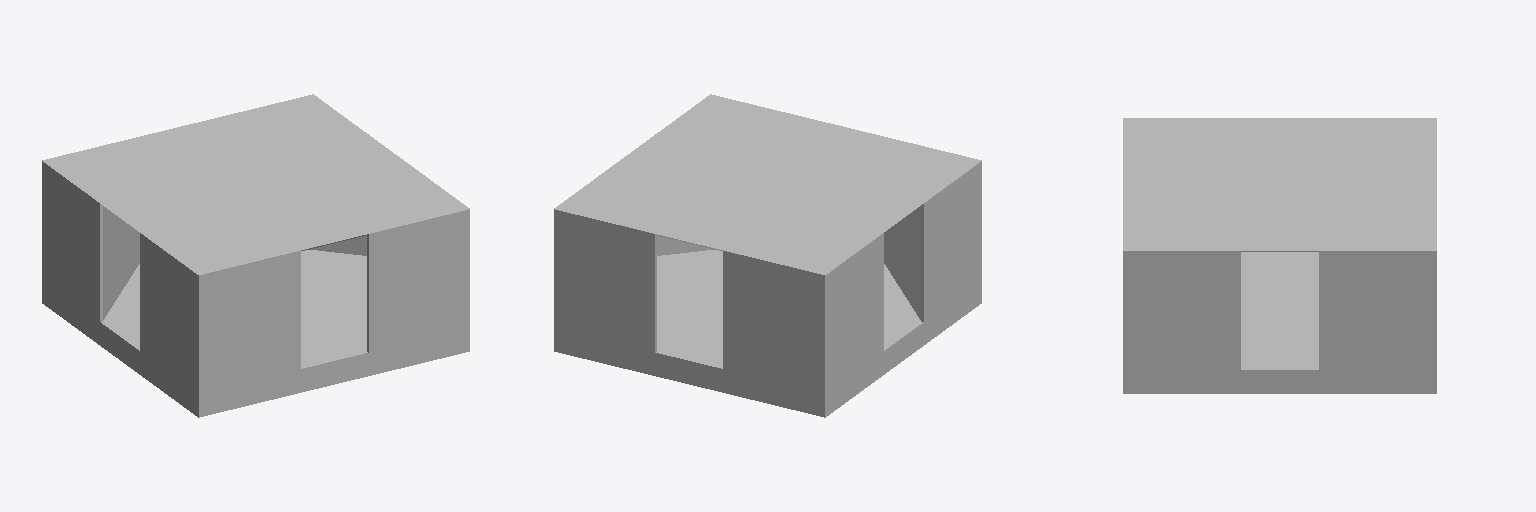
File: right_left_front.obj
3 renders of one model, left to right at view 1: azimuth 30°, elevation 25°; view 2: azimuth 150°, elevation 25°; view 3: azimuth 270°, elevation 25°, orthographic.
Parts seen in each view (by area): view 1: RightLeftFront; view 2: RightLeftFront; view 3: RightLeftFront.
Part boxes in pixels (left/top/right/bottom): RightLeftFront: left=42, top=94, right=469, bottom=417; RightLeftFront: left=554, top=94, right=981, bottom=417; RightLeftFront: left=1123, top=118, right=1436, bottom=393.
Bounding box in the file's own units: 12 × 6 × 12.